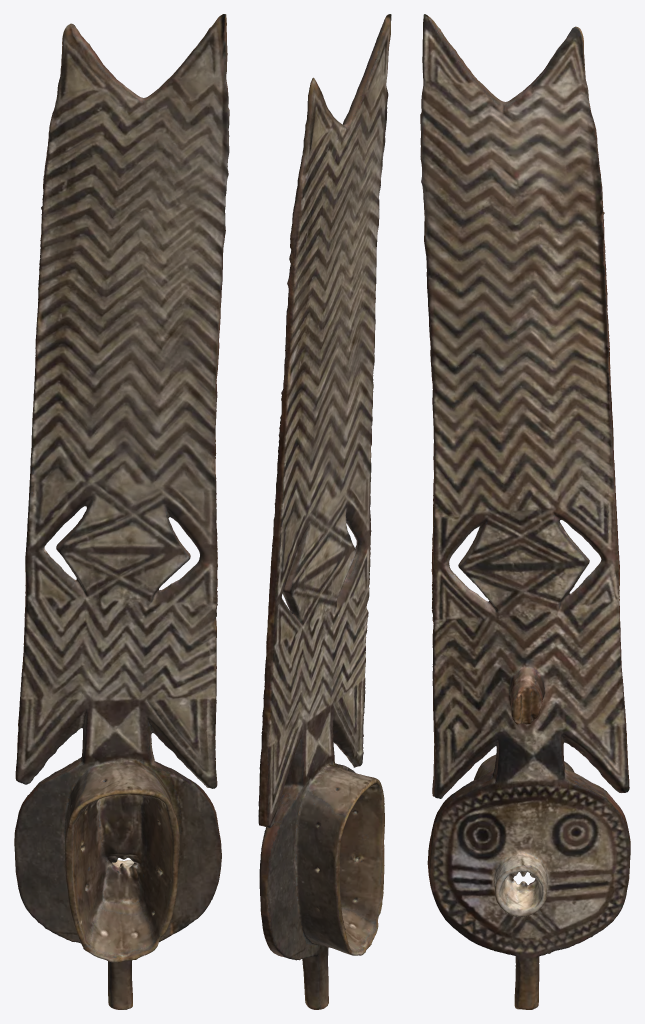
Rendered from preview.glb.
3 renders of one model, left to right at view 1: azimuth 90°, elevation 25°; view 2: azimuth 150°, elevation 25°; view 3: azimuth 270°, elevation 25°, orthographic. The views are drawn at different scales.
Parts seen in each view (by area): view 1: Object_2; view 2: Object_2; view 3: Object_2.
Part boxes in pixels (x1,y1,x2,y2): Object_2: (14,14,229,1009); Object_2: (258,14,391,1009); Object_2: (420,14,630,1009).
Bounding box in the file's own units: 178 × 1674 × 325.
1 material, 1 textured.
